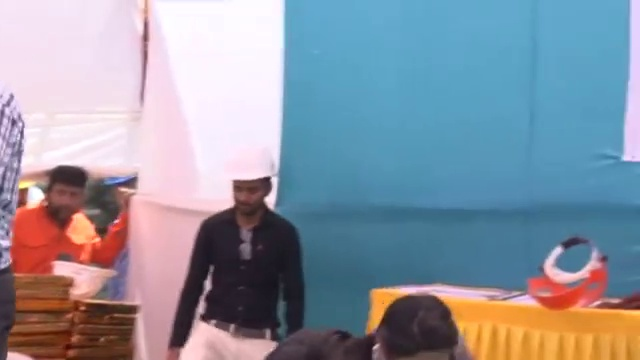helmet: (51, 258, 117, 300), (220, 152, 277, 186)
helmet_off: (367, 294, 463, 358), (36, 169, 87, 223)
helmet_on: (221, 153, 276, 220)
person: (170, 150, 303, 359), (11, 163, 132, 277), (0, 83, 27, 359)
